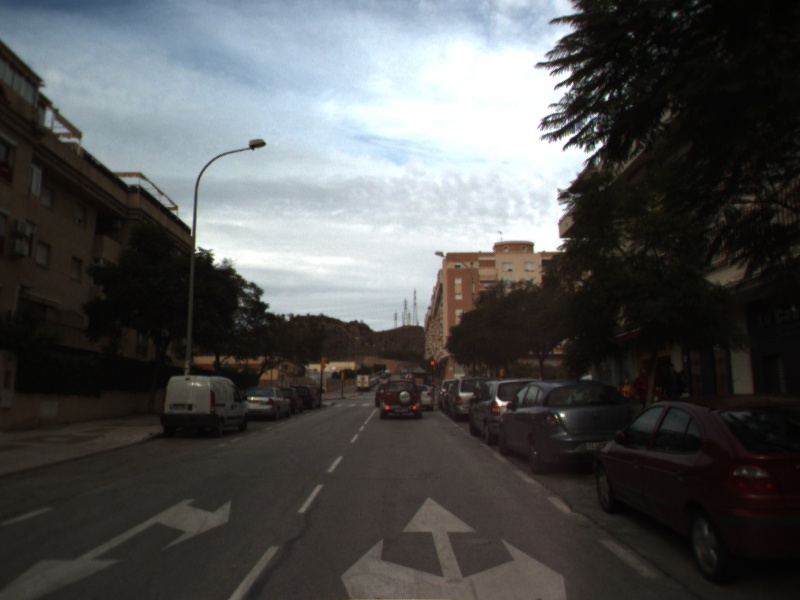STRAIGHT_LEFT_RIGHT: (336, 492, 572, 600)
